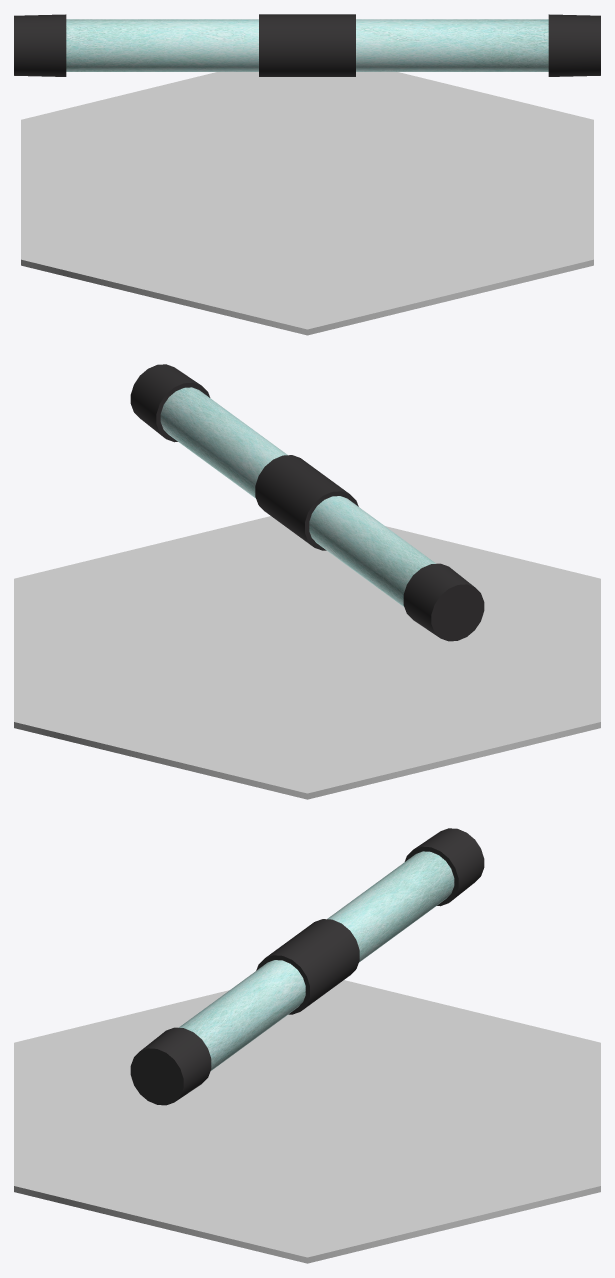
3 renders of one model, top to bottom at view 1: azimuth 30°, elevation 25°; view 2: azimuth 150°, elevation 25°; view 3: azimuth 270°, elevation 25°, orthographic. The views are drawn at different scales.
Visible parts, largest first — view 1: Cylinder001, Cylinder002; view 2: Cylinder001, Cylinder002; view 3: Cylinder001, Cylinder002.
Boxes of the visible parts, box(x1,y1,x2,y2) form: Cylinder001: box(21, 72, 593, 335); Cylinder002: box(14, 14, 600, 76); Cylinder001: box(14, 516, 600, 799); Cylinder002: box(130, 364, 484, 641); Cylinder001: box(14, 980, 600, 1263); Cylinder002: box(130, 828, 484, 1105).
Bounding box in the file's own units: 100 × 29.75 × 86.6.
2 materials, 2 textured.
